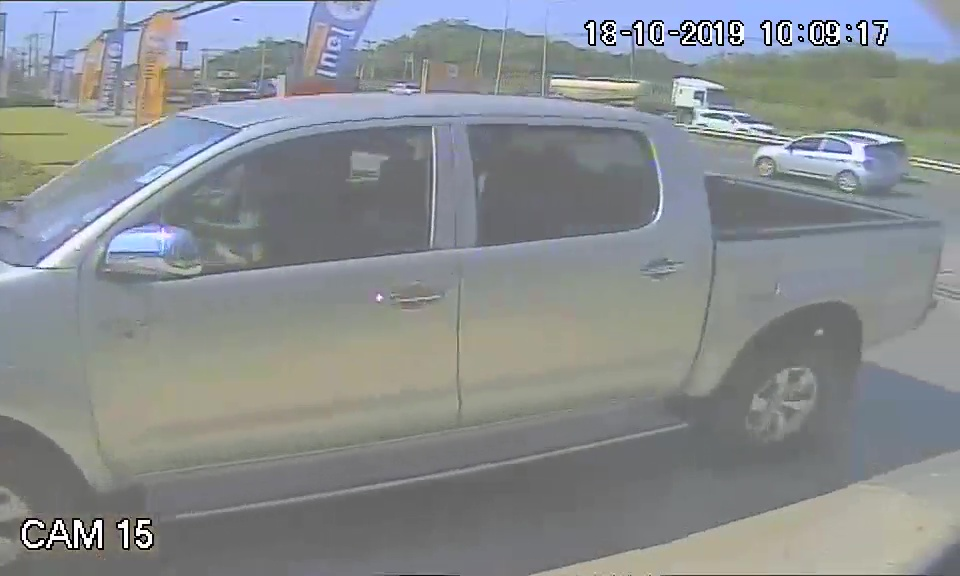pickup: (2, 89, 710, 494)
